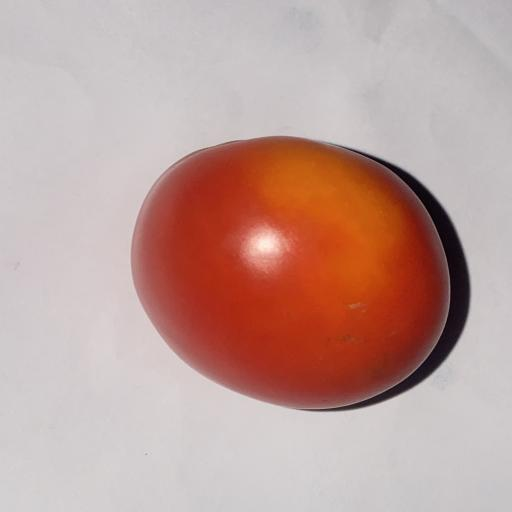ripe: (132, 137, 450, 409)
